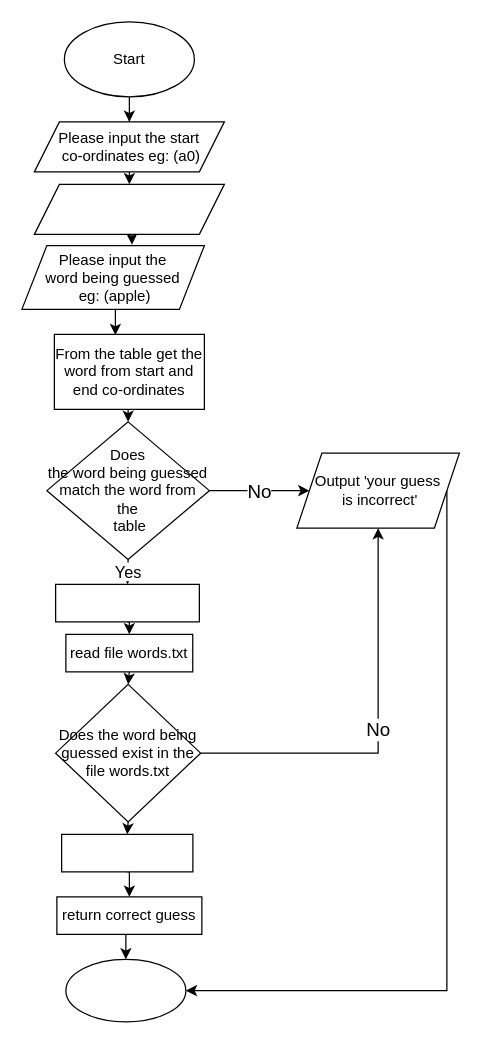
Some shapes in this 481 by 1044 pixel diagram are drawn without their labels. Here are the shapes that lost their labels. From the top down, the box of each, then its label:
(33, 183, 224, 234): Please input the end co-ordinates eg: (a5)
(54, 583, 199, 622): Open file words.txt
(60, 833, 193, 872): close file words.txt
(65, 958, 186, 1022): end
